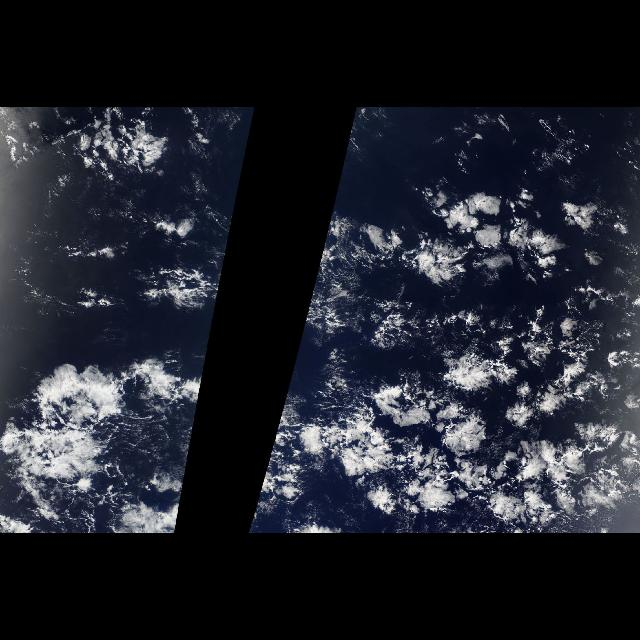Flower: (248, 168, 640, 534), (1, 173, 242, 533)
